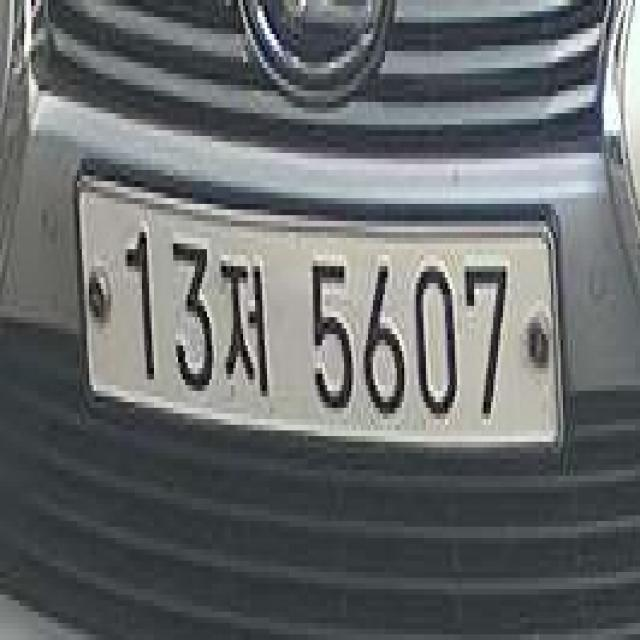0: (412, 265, 458, 439)
1: (124, 222, 160, 392)
3: (170, 231, 216, 397)
5: (308, 250, 357, 416)
6: (363, 258, 404, 432)
7: (464, 248, 511, 422)
jeo: (216, 250, 274, 406)
license_plate: (72, 168, 568, 466)
